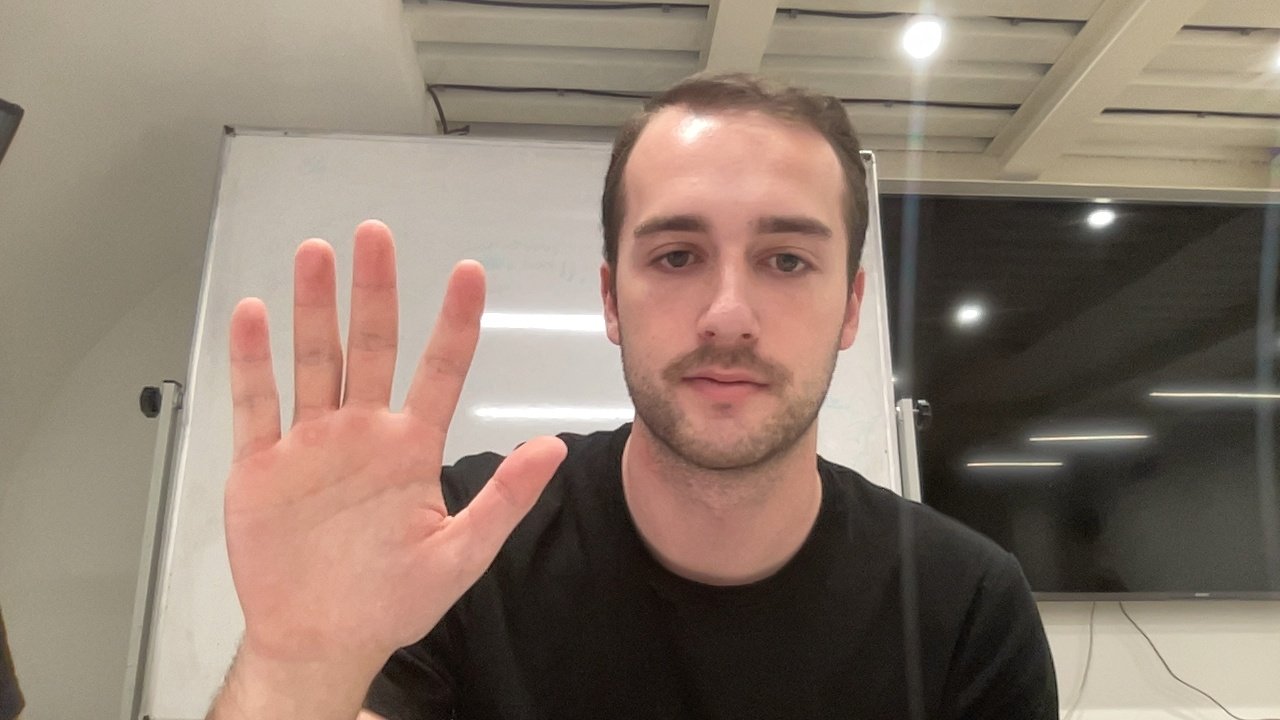Hello: (220, 220, 570, 654)
